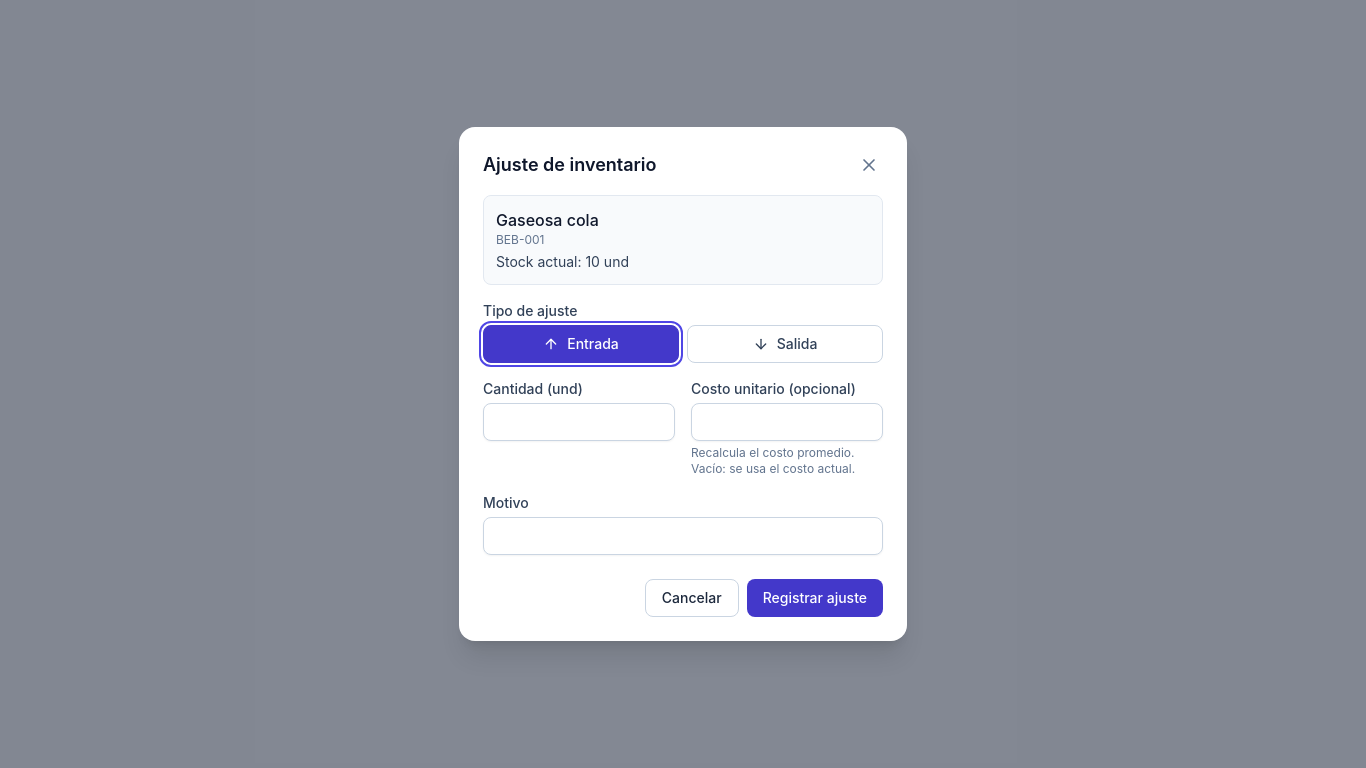
Test: AdjustmentFormModal › shows insufficient stock next to the quantity
Step 1. Click the radio button labelled "Salida" → (785, 344), box [687,325,883,363]
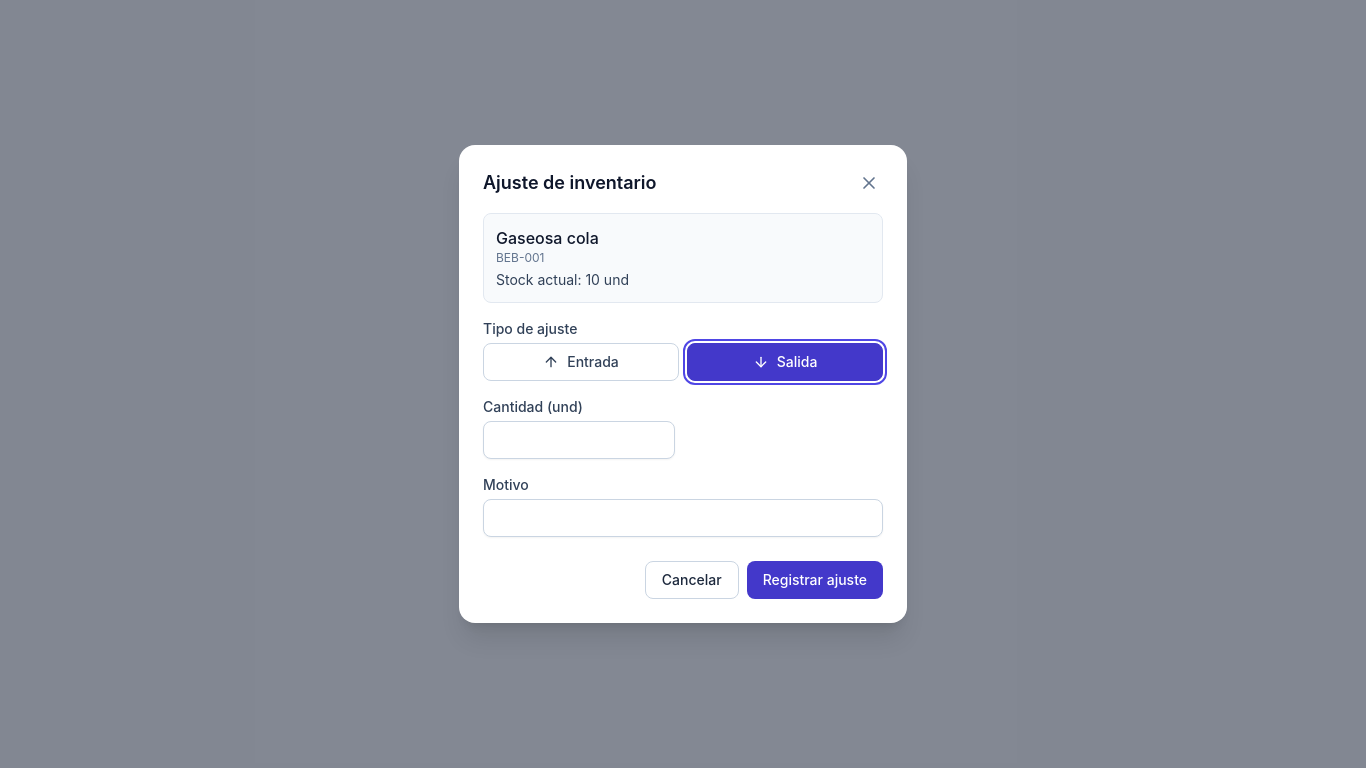
Step 2. Type "12" into the field labelled "Cantidad (und)" → (579, 440), box [483,421,675,459]
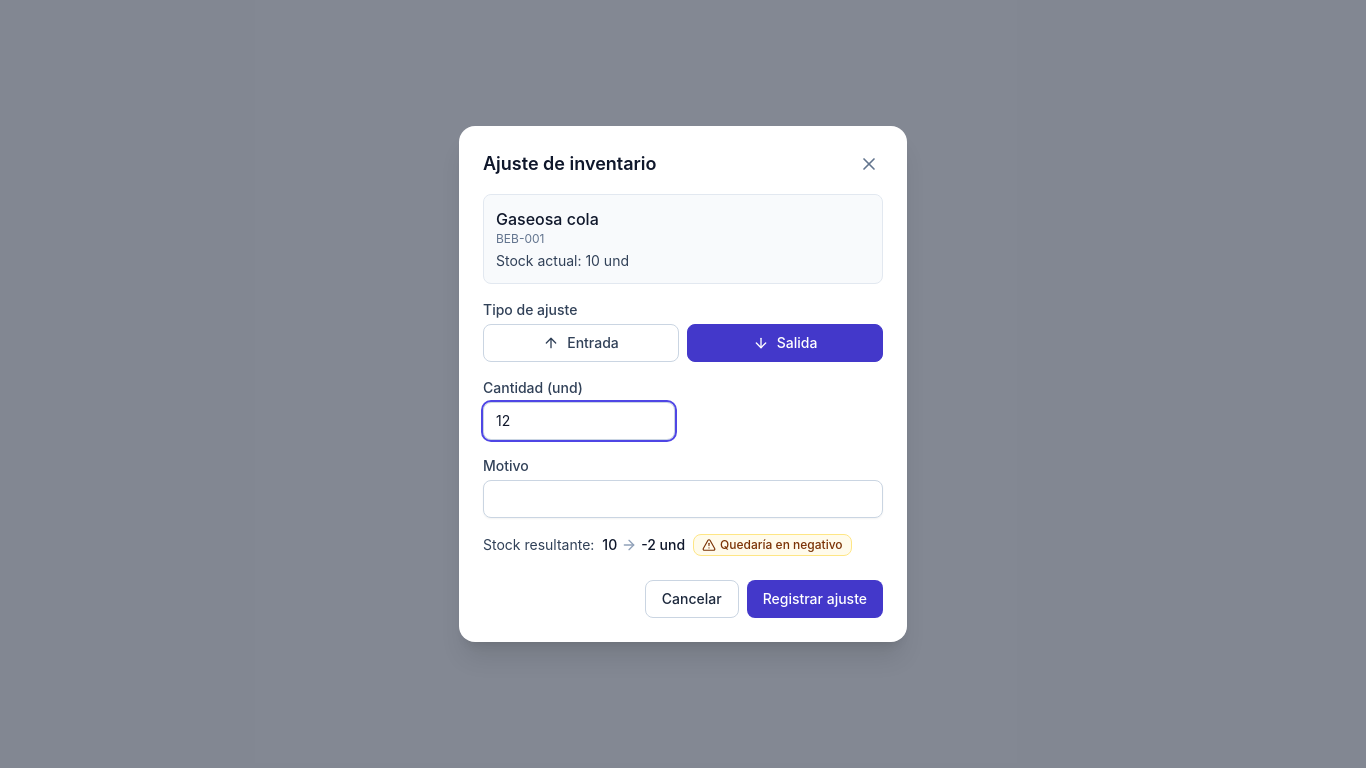
Step 3. Type "Producto vencido" into the field labelled "Motivo" → (683, 499), box [483,480,883,518]
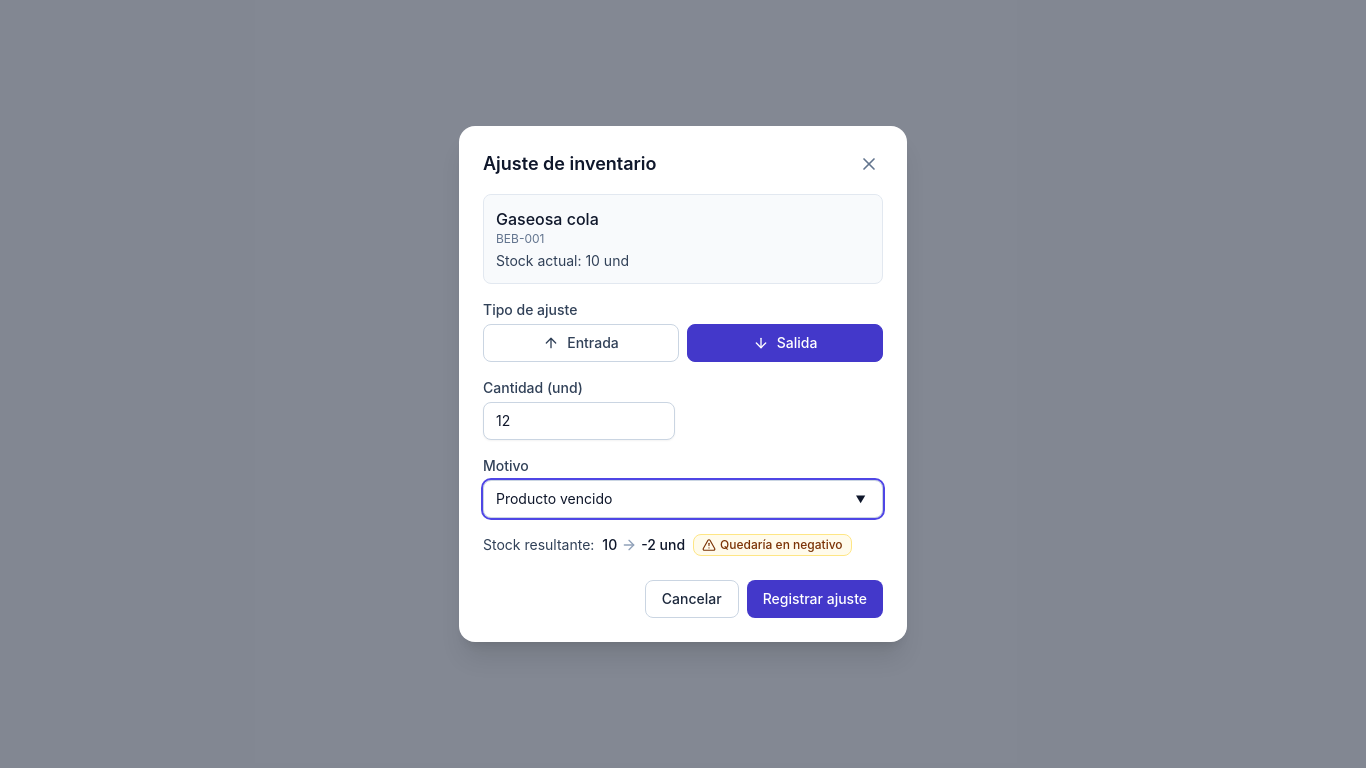
Step 4. Click the button "Registrar ajuste" → (815, 599), box [747,580,883,618]
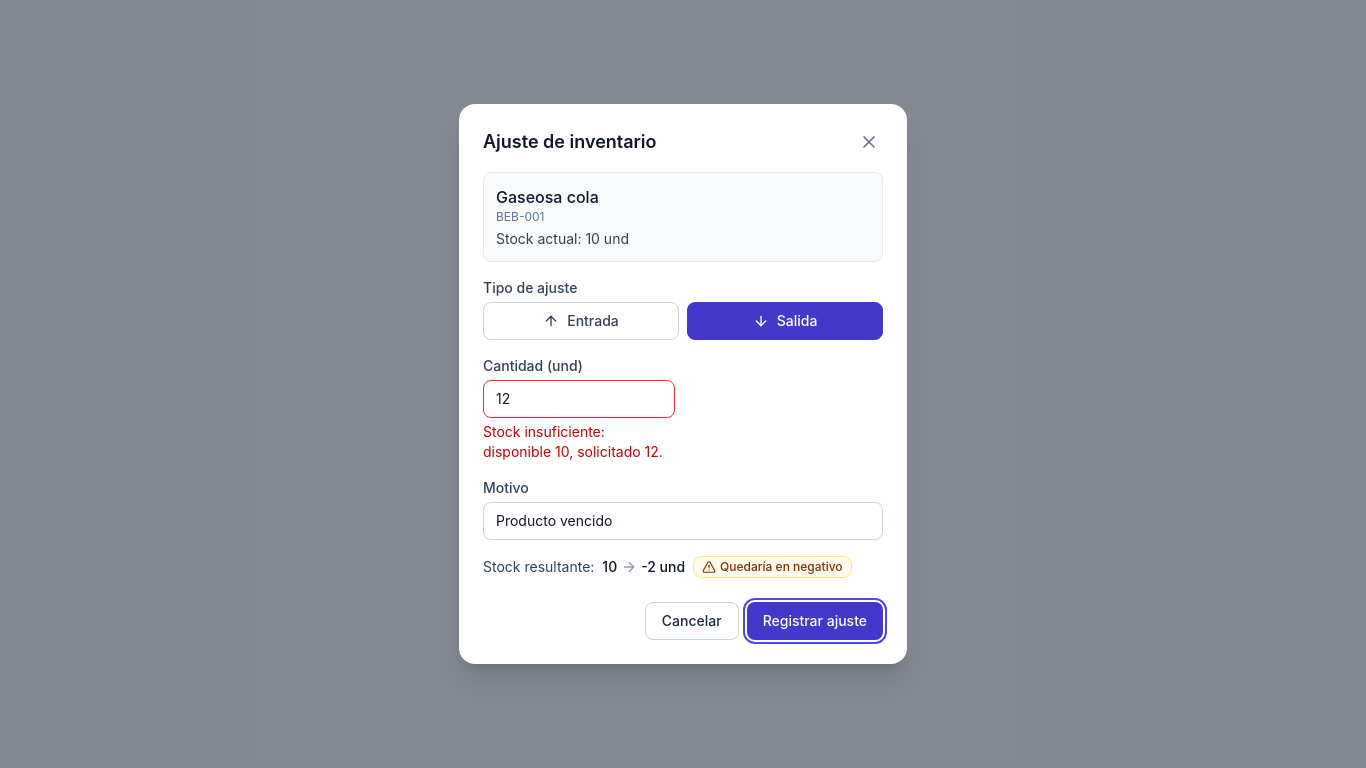
Now the text "Stock insuficiente: disponible 10, solicitado 12." is shown, box [483,422,675,462]
